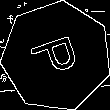P_E: (26, 31, 87, 82)
